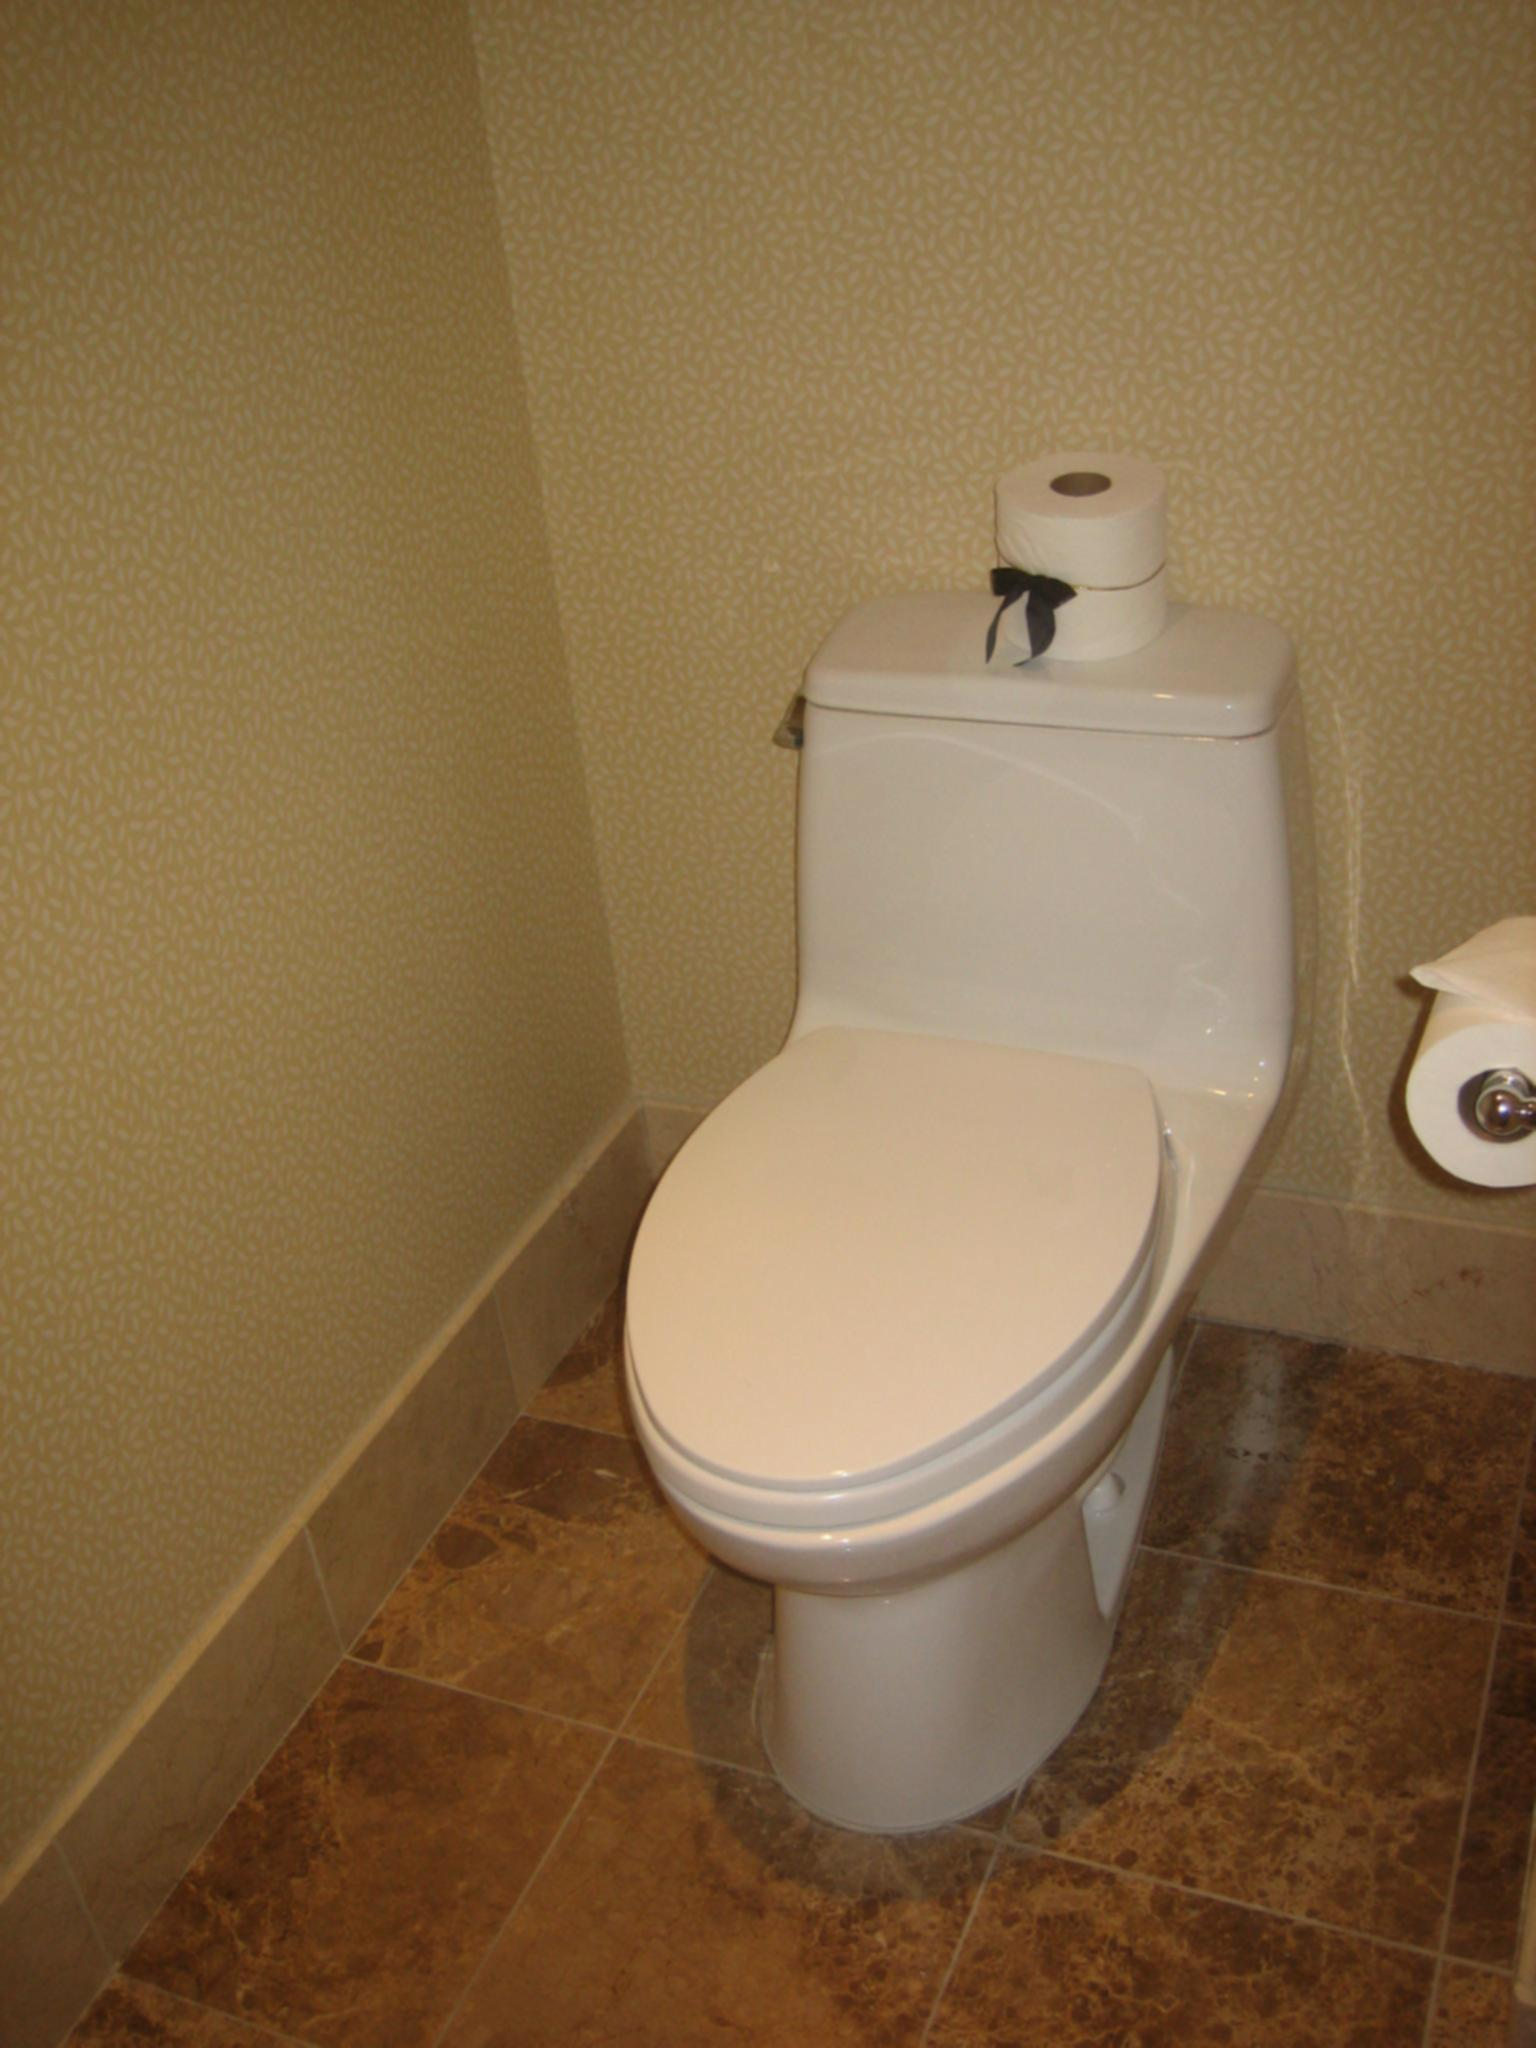Sanitario: (670, 547, 1279, 1809)
